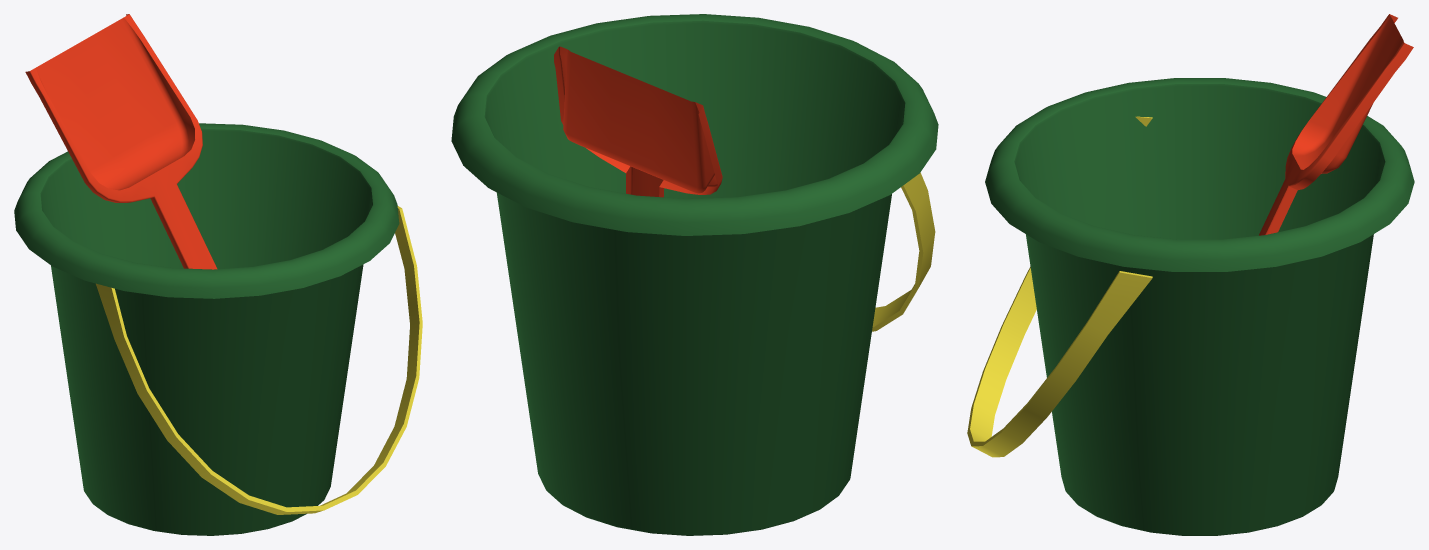
The model's file is secchiello_LOD0.fbx.
3 views of the same model, side by side, from view 1: azimuth 30°, elevation 25°; view 2: azimuth 150°, elevation 25°; view 3: azimuth 270°, elevation 25° (orthographic). The views are drawn at different scales.
Visible parts, largest first — view 1: Spade; view 2: Spade; view 3: Spade.
Boxes of the visible parts, x1,y1,x2,y2 form: Spade: (14, 14, 422, 535); Spade: (451, 14, 938, 535); Spade: (967, 14, 1414, 535).
Size of the model in its own units: 126 by 144 by 132.
